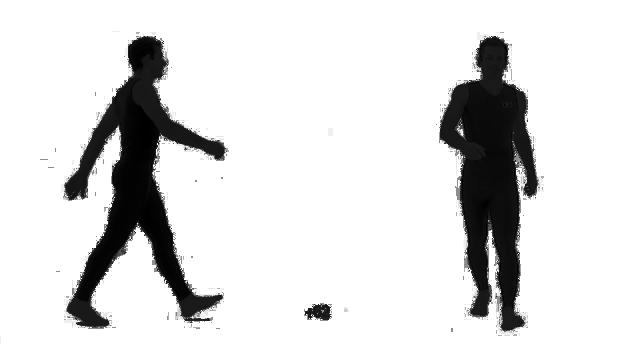berjalan: (61, 36, 227, 328), (435, 34, 543, 336)
